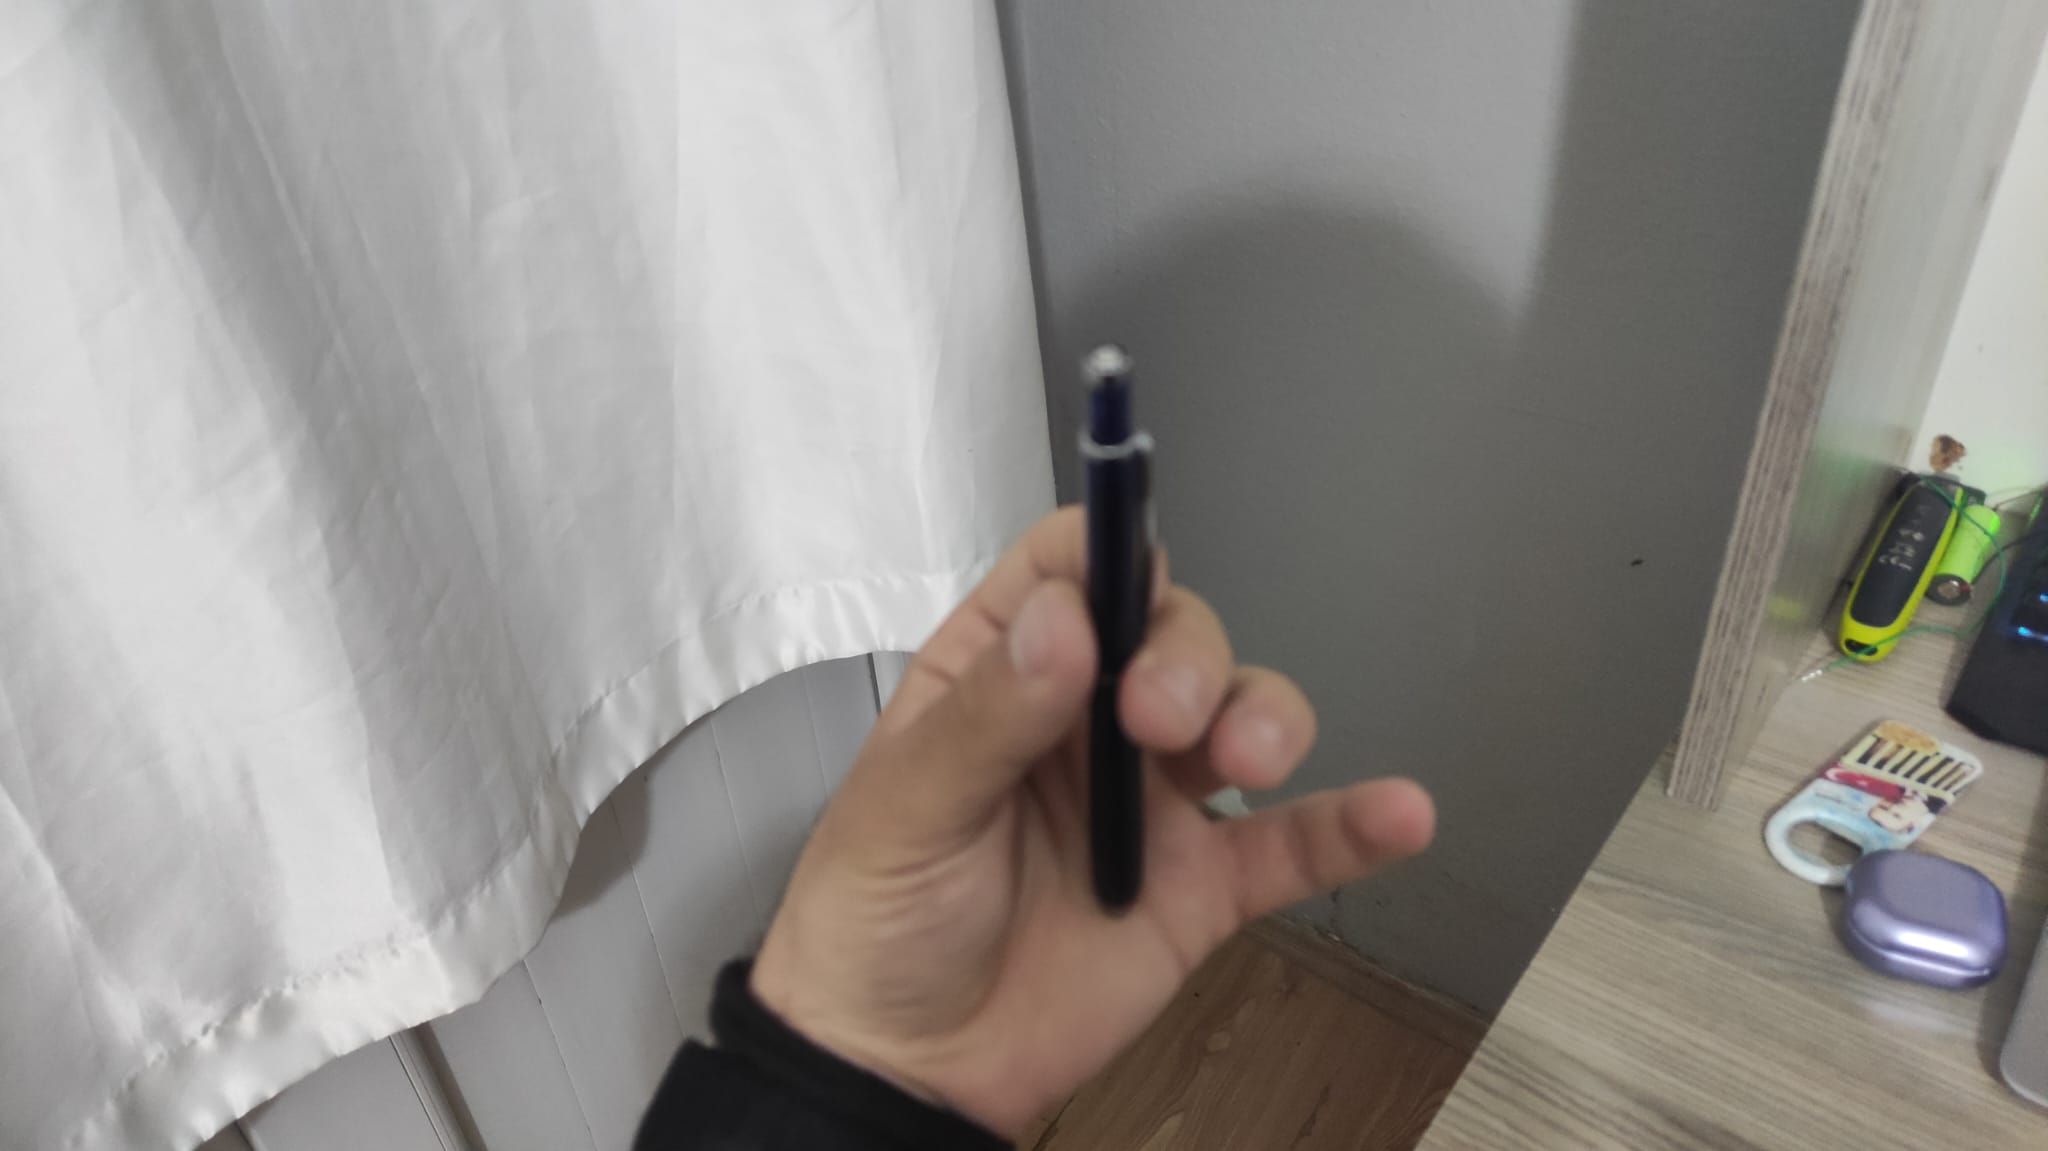kalem: (1086, 343, 1165, 920)
